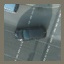car: (14, 25, 47, 43)
